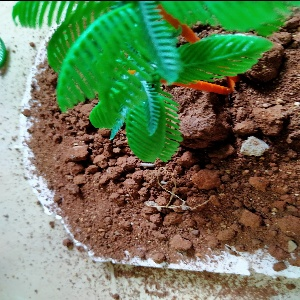plant: (10, 2, 300, 168)
